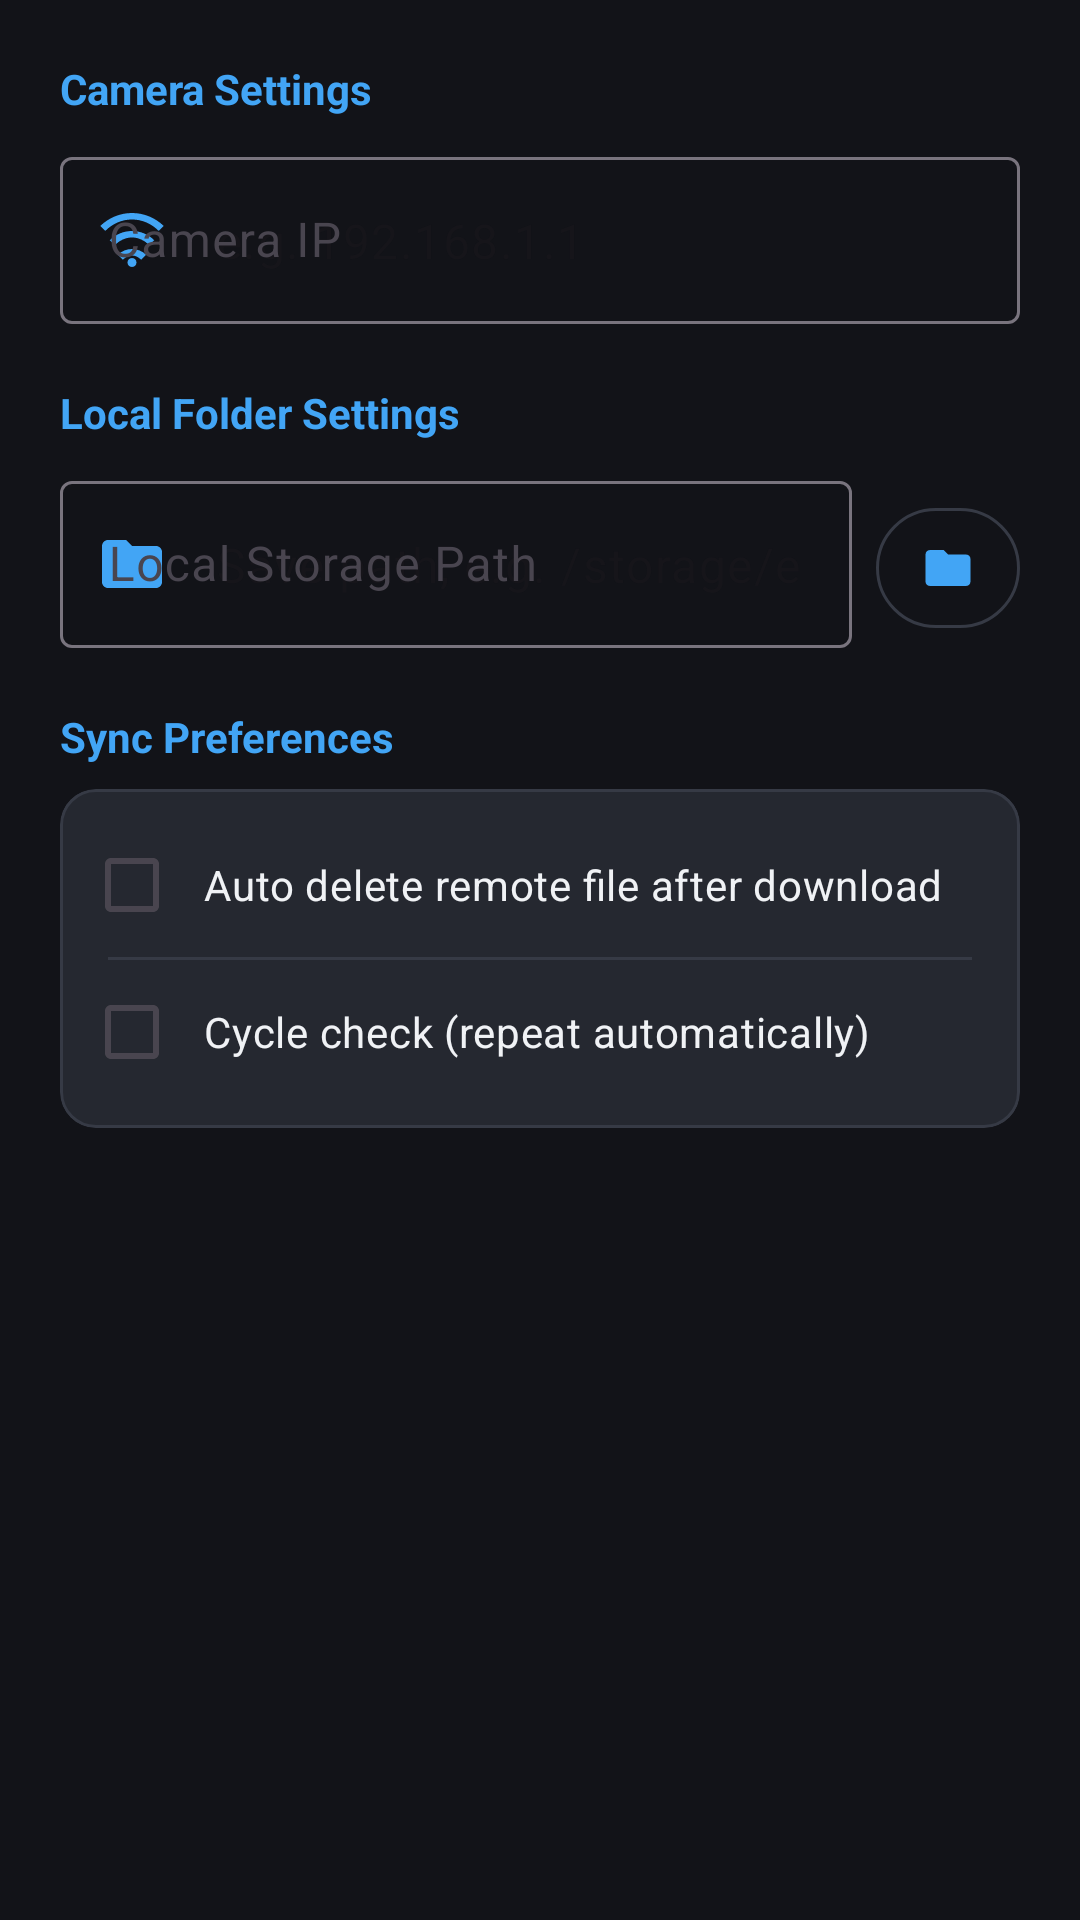

Icons on this 1080px×1920px Android screen, each with the point to tap as (x=x, y=y):
Select Folder: (x=948, y=568)
